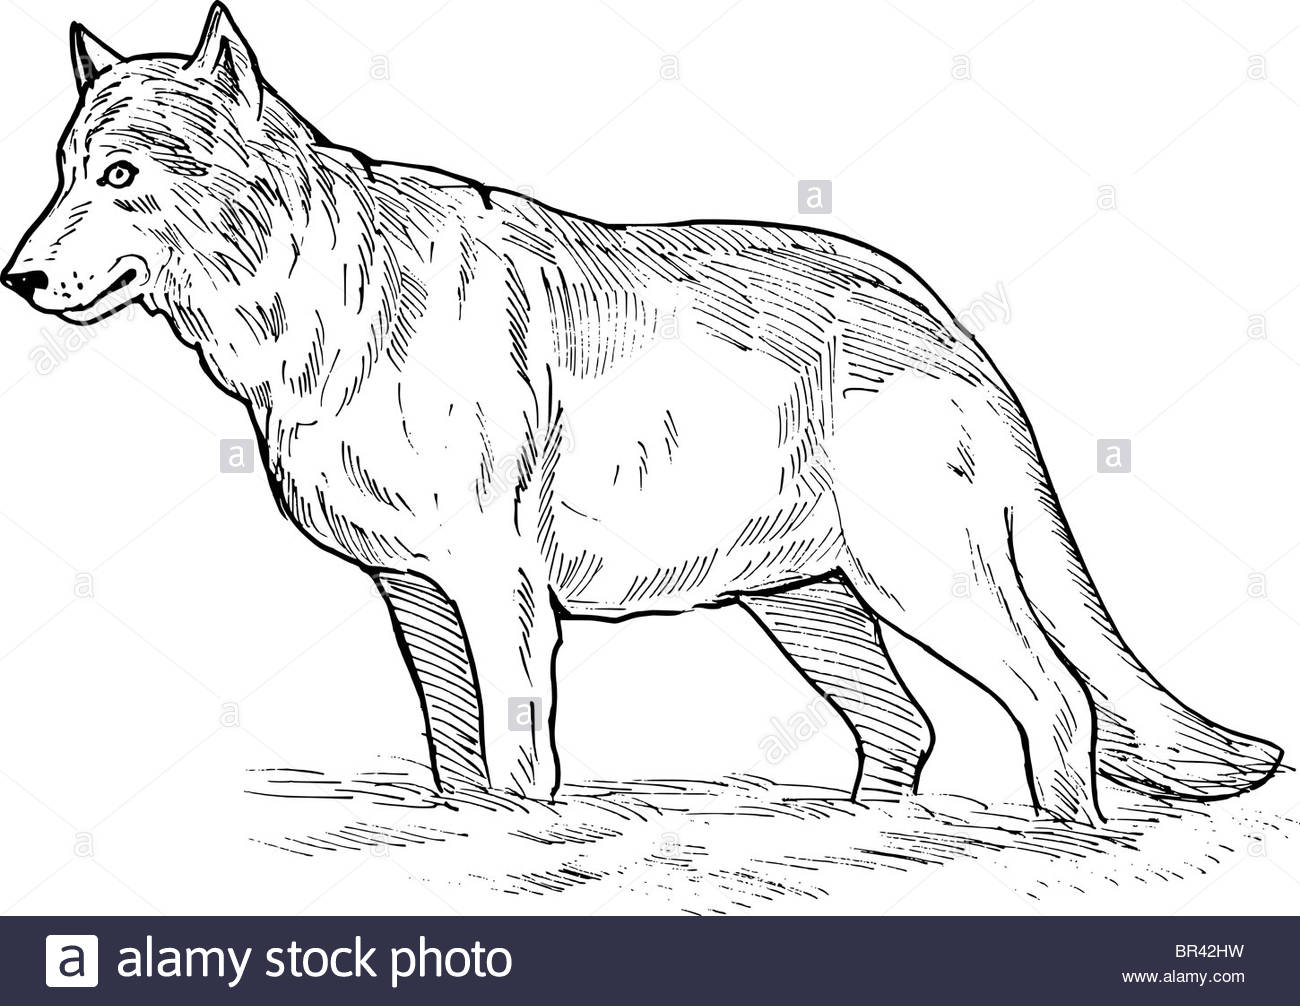Lobo: (6, 1, 1281, 865)
